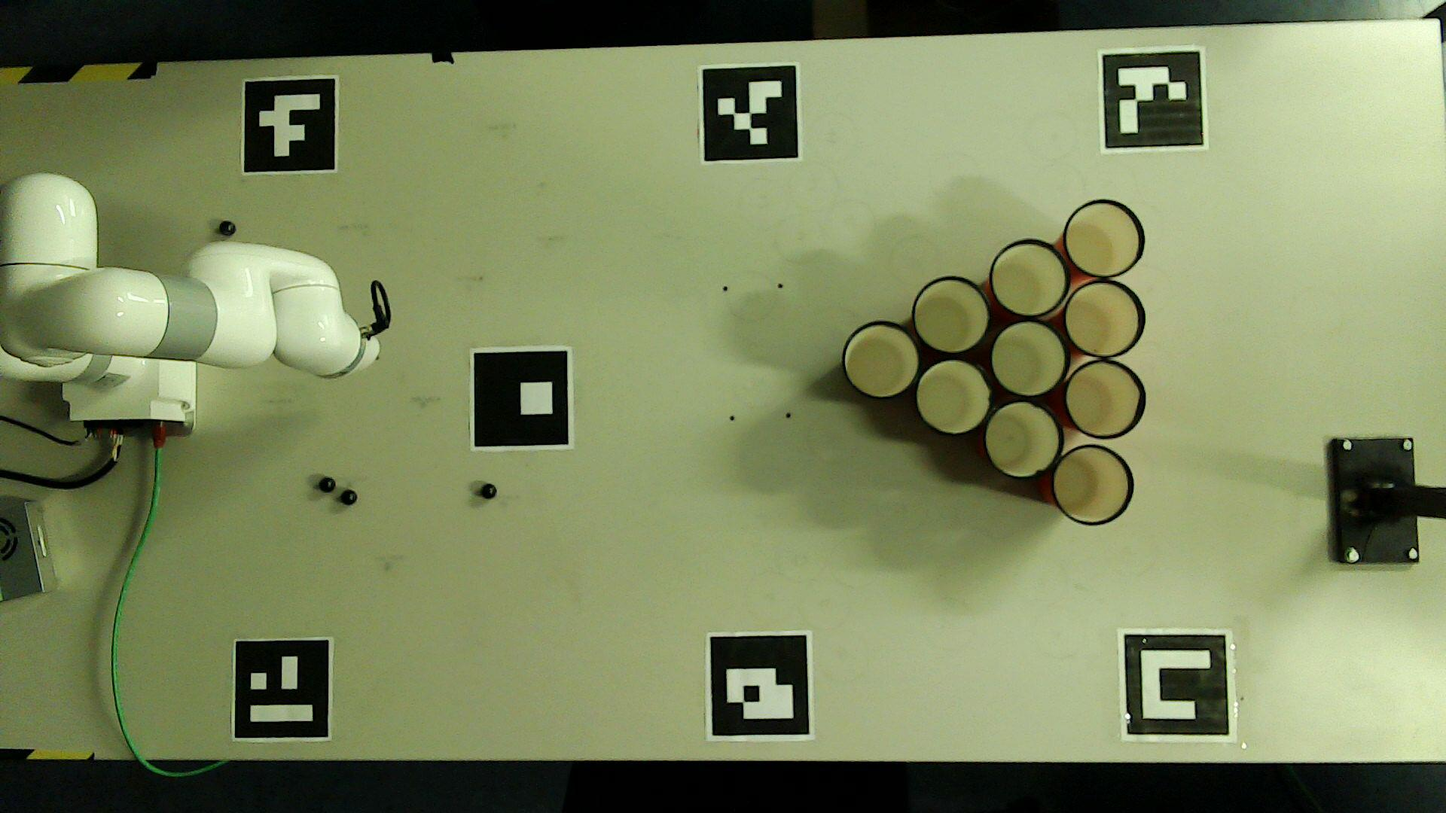ball: (320, 478, 334, 492), (342, 491, 356, 504), (482, 484, 496, 497), (221, 222, 234, 235)
cup: (1053, 446, 1132, 525), (991, 240, 1070, 318), (1065, 360, 1144, 438), (985, 401, 1063, 479), (1065, 280, 1144, 356), (843, 322, 920, 399), (991, 320, 1068, 397), (1066, 201, 1144, 276), (914, 277, 989, 353), (915, 359, 990, 435)
